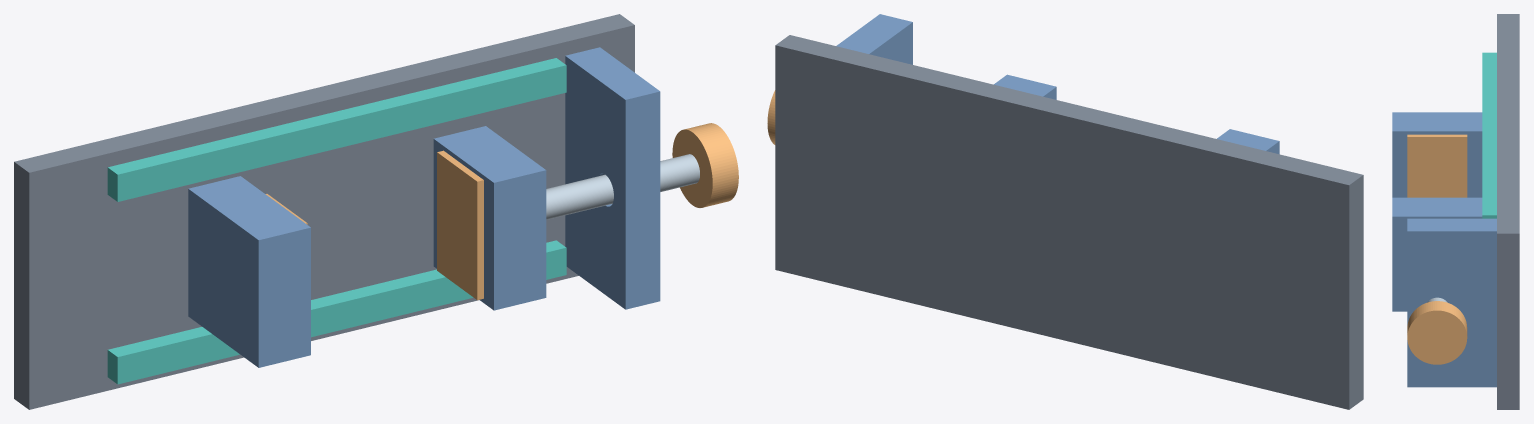
The model's file is assembly.glb.
3 renders of one model, left to right at view 1: azimuth 30°, elevation 25°; view 2: azimuth 150°, elevation 25°; view 3: azimuth 270°, elevation 25°, orthographic. The views are drawn at different scales.
Parts seen in each view (by area): view 1: base, actuator_support, fixed_jaw, rail_right, moving_jaw, rail_left, moving_pad, knob, rod; view 2: base, actuator_support, fixed_jaw, moving_jaw; view 3: actuator_support, base, fixed_jaw, fixed_pad, moving_jaw, knob, rail_right.
Boxes of the visible parts, x1,y1,x2,y2 form: base: (14, 14, 634, 409); actuator_support: (565, 47, 660, 309); fixed_jaw: (188, 176, 310, 367); rail_right: (107, 58, 566, 201); moving_jaw: (433, 126, 546, 310); rail_left: (107, 240, 566, 384); moving_pad: (437, 150, 483, 300); knob: (672, 123, 738, 207); rod: (546, 154, 699, 219); base: (775, 35, 1363, 409); actuator_support: (836, 14, 912, 64); fixed_jaw: (1217, 129, 1279, 154); moving_jaw: (994, 74, 1056, 99); actuator_support: (1407, 218, 1496, 387); base: (1497, 14, 1519, 409); fixed_jaw: (1392, 112, 1482, 197); fixed_pad: (1407, 134, 1467, 197); moving_jaw: (1392, 197, 1482, 311); knob: (1407, 301, 1467, 364); rail_right: (1482, 52, 1496, 218).
Size of the model in its own units: 0.1221 by 0.0426 by 0.0279.
